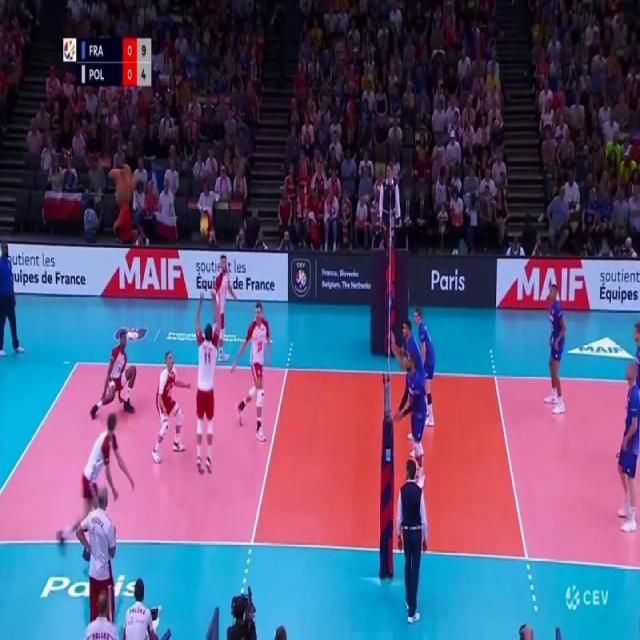volleyball: (200, 217, 209, 237)
